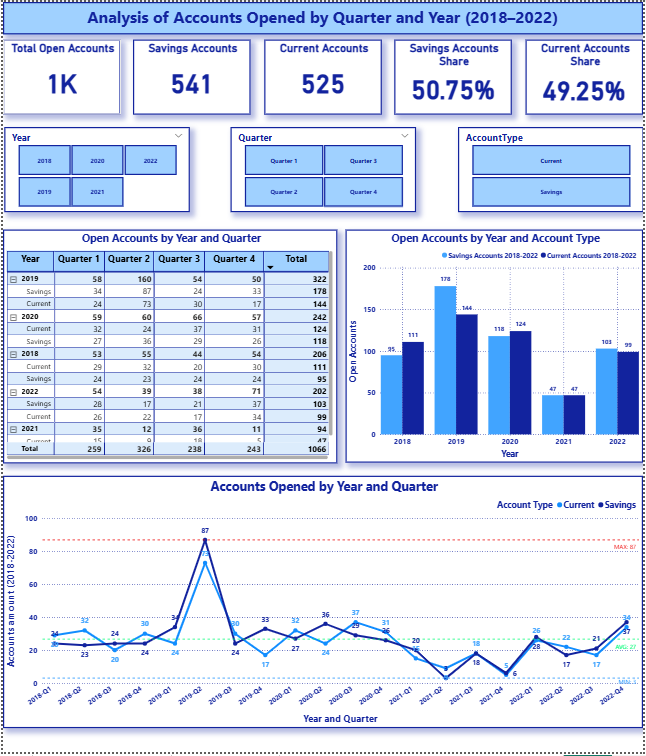

The page's visual inventory and layout, read from the dashboard file:
{"tool":"powerbi","page":{"name":"Open accounts","canvas":[1280,1500],"ordinal":1},"visuals":[{"type":"textbox","box":[0,0,1280,65],"z":0},{"type":"cardVisual","title":"Total Open Accounts","fields":{"Data":["Measures_.Open Accounts 2018-2022"]},"box":[0,75,235,150],"z":1000},{"type":"cardVisual","title":"Savings Accounts","fields":{"Data":["Measures_.Savings Accounts 2018-2022"]},"box":[261.1,75,235,150],"z":2000},{"type":"cardVisual","title":"Current Accounts","fields":{"Data":["Measures_.Current Accounts 2018-2022"]},"box":[522.2,75,235,150],"z":3000},{"type":"cardVisual","title":"Savings Accounts Share","fields":{"Data":["Measures_.Savings % 2018-2022"]},"box":[783.3,75,235,150],"z":4000},{"type":"cardVisual","title":"Current Accounts Share","fields":{"Data":["Measures_.Current % 2018-2022"]},"box":[1044.4,75,235.6,150],"z":5000},{"type":"clusteredColumnChart","title":"Open Accounts by Year and Account Type","fields":{"Category":["dimDate.Date.Variation.Date Hierarchy.Year"],"Y":["Measures_.Savings Accounts 2018-2022","Measures_.Current Accounts 2018-2022"]},"box":[684.4,456.1,595.6,466.7],"z":6000},{"type":"lineChart","title":"Accounts Opened by Year and Quarter","fields":{"Category":["dimDate.YearQuarter"],"Series":["factAccounts.AccountType"],"Y":["Measures_.Open Accounts 2018-2022"]},"box":[0,947.2,1273.3,504.4],"z":7000},{"type":"pivotTable","title":"Open Accounts by Year and Quarter","fields":{"Rows":["dimDate.Year","factAccounts.AccountType"],"Columns":["dimDate.QuarterText"],"Values":["Measures_.Open Accounts 2018-2022"]},"box":[0,455.6,668.9,467.8],"z":8000},{"type":"slicer","title":"Year","fields":{"Values":["dimDate.Year"]},"box":[3.3,250.6,371.1,170],"z":9000},{"type":"slicer","fields":{"Values":["dimDate.QuarterText"]},"box":[456.2,250.6,371,170],"z":10000},{"type":"slicer","fields":{"Values":["dimAccountType.AccountType"]},"box":[908.9,250.6,371.1,170],"z":11000},{"type":"qnaVisual","box":[0,1350,1273.3,150],"z":11001}]}

Visuals, with their boxes in screenshot pixels (x1, y1, x2, y2), scaled from the page's 1280x1500 canvas onto the 646x756 screenshot:
textbox: (0,0,645,33)
"Total Open Accounts" cardVisual: (0,38,119,113)
"Savings Accounts" cardVisual: (132,38,250,113)
"Current Accounts" cardVisual: (264,38,382,113)
"Savings Accounts Share" cardVisual: (395,38,514,113)
"Current Accounts Share" cardVisual: (527,38,645,113)
"Open Accounts by Year and Account Type" clusteredColumnChart: (345,230,645,465)
"Accounts Opened by Year and Quarter" lineChart: (0,477,643,732)
"Open Accounts by Year and Quarter" pivotTable: (0,230,338,465)
"Year" slicer: (2,126,189,212)
slicer - dimDate.QuarterText: (230,126,417,212)
slicer - dimAccountType.AccountType: (459,126,645,212)
qnaVisual: (0,680,643,755)
